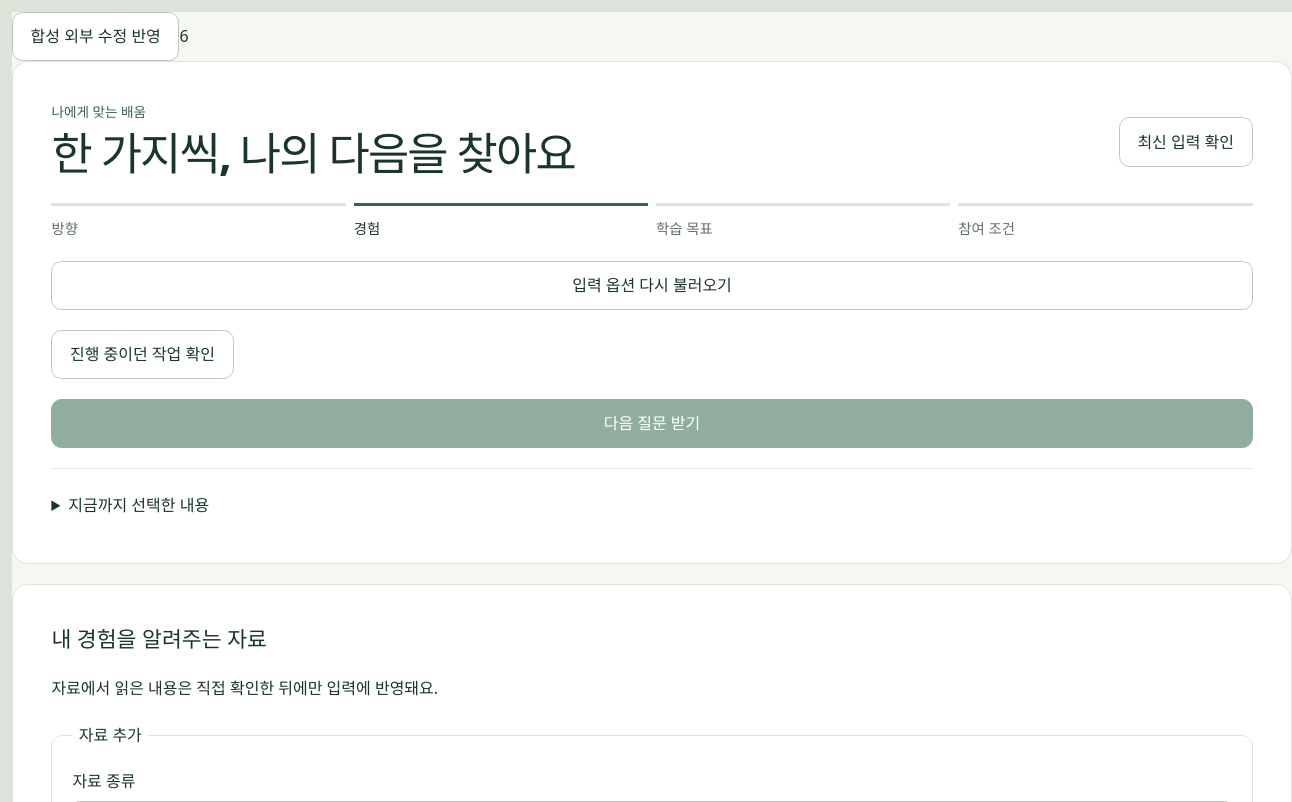
이전 답변 수정·입력 보존 › 늦은 질문 job 완료 뒤 오래된 프로필 조회가 최신 입력을 덮어쓰지 않는다
Click the button "진행 중이던 작업 확인".
click(142, 354)  # box [51,330,234,379]
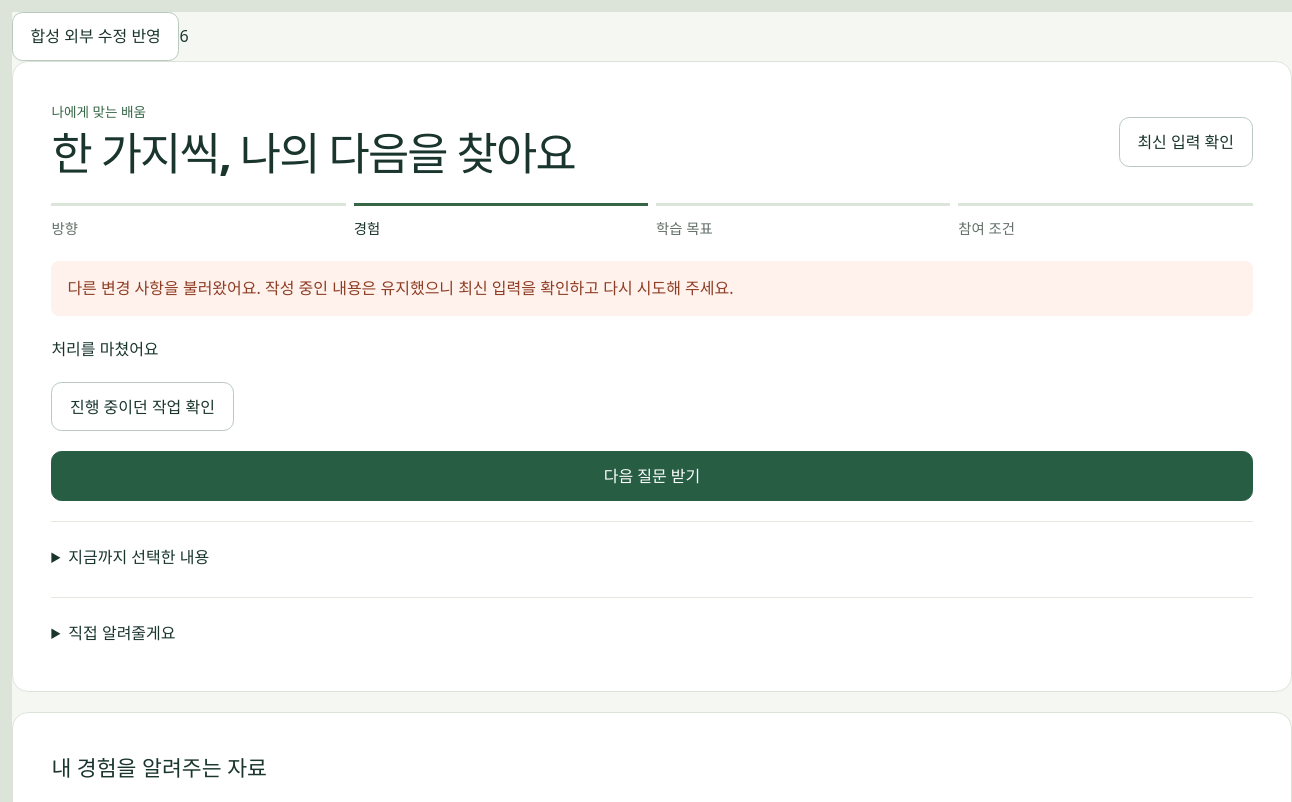
Expected: the text named "검사용 현재 버전" reads "6", [179,25,189,47]
Expected: the message "다른 변경 사항을 불러왔어요. 작성 중인 내용은 유지했으니 최신 입력을 확인하고 다시 시도해 주세요." is shown, [51,261,1253,316]
